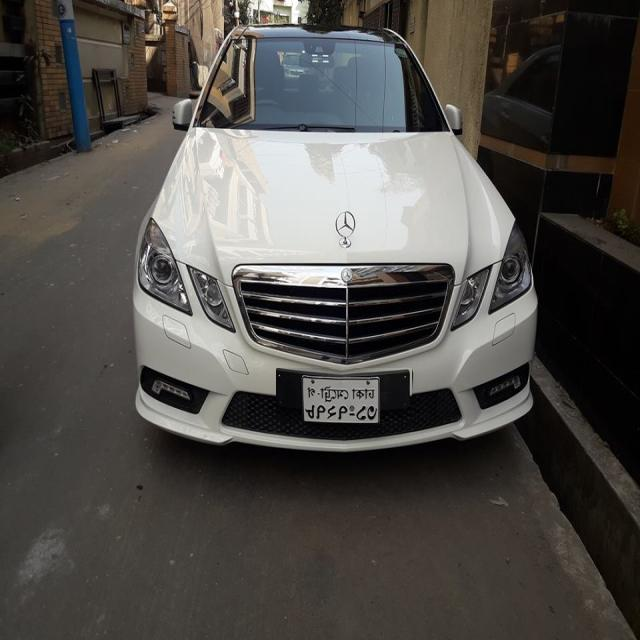numberplate: (276, 368, 412, 423), (307, 375, 386, 425)
